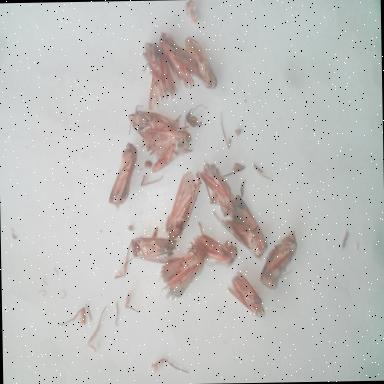abw: (210, 191, 269, 262), (115, 224, 182, 282), (156, 239, 210, 304), (162, 163, 205, 244), (138, 38, 182, 114), (140, 122, 196, 178), (194, 154, 238, 220), (156, 29, 202, 91), (125, 97, 181, 147), (258, 228, 300, 294), (105, 138, 141, 213), (180, 30, 220, 95), (190, 224, 242, 272), (224, 268, 269, 322)
